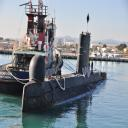submarine: (23, 36, 108, 112)
